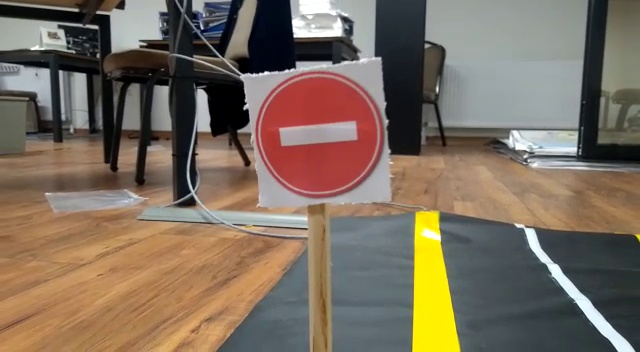girisi_olmayan_yol: (252, 66, 385, 207)
